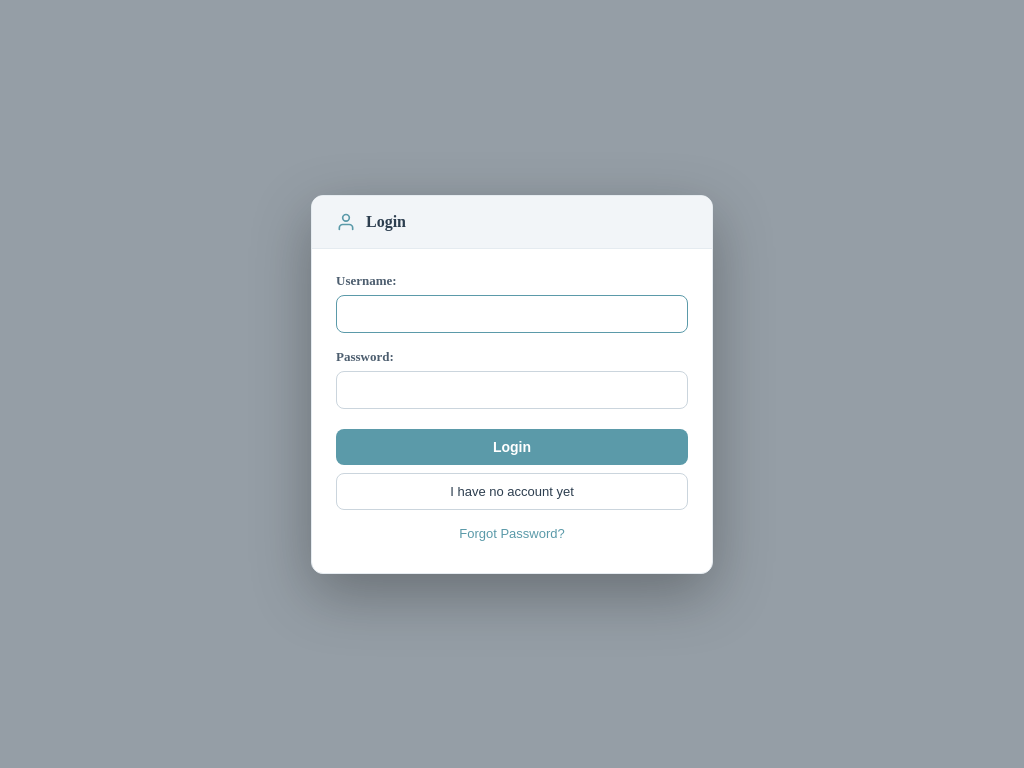
Scenario: LoginForm › switches to register mode
The image size is (1024, 768).
Step 1. Click the button "I have no account yet" → coordinates (512, 491), box [336, 472, 688, 510]
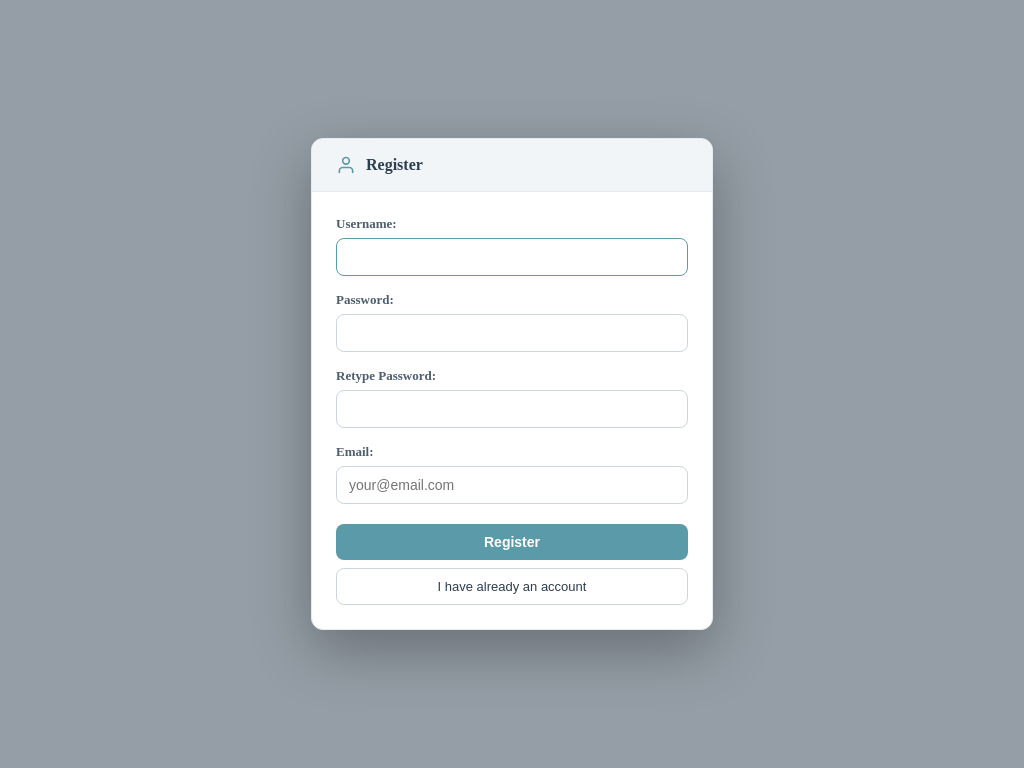
Expected: the button "Register" is shown, [336, 524, 688, 560]
Expected: the text "Retype Password:" is shown, [336, 368, 436, 383]
Expected: the button "I have already an account" is shown, [336, 568, 688, 605]
